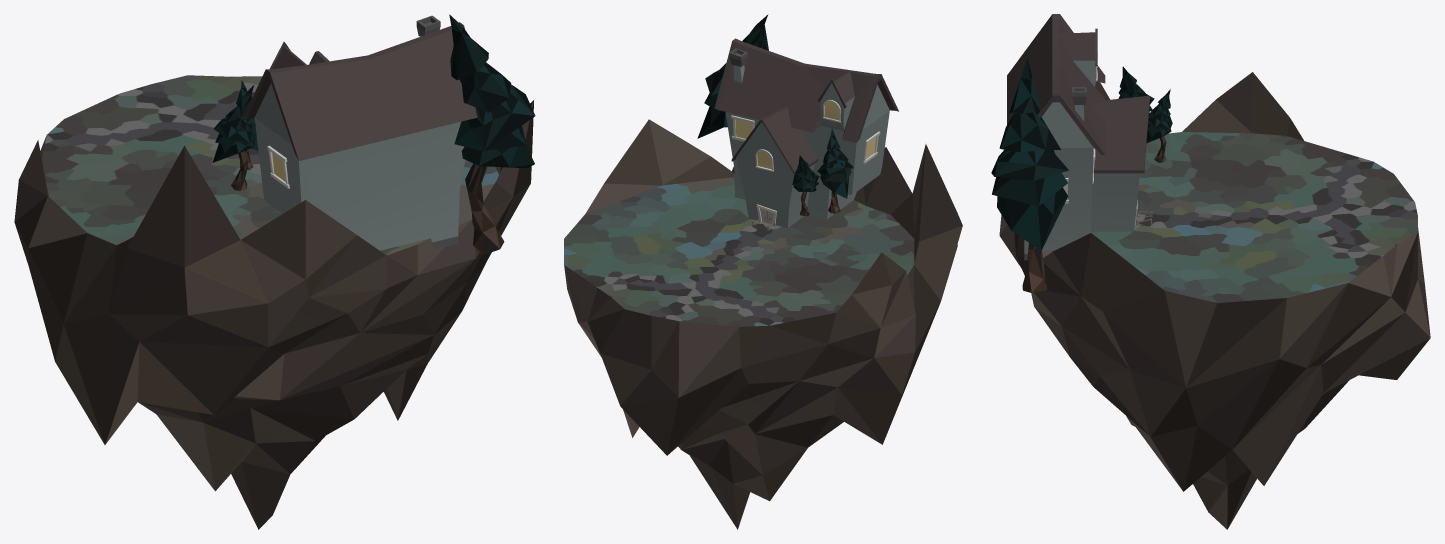
Rendered from Isla_Fantasma_Ejercicio_Secuencias.FBX.
3 views of the same model, side by side, from view 1: azimuth 30°, elevation 25°; view 2: azimuth 150°, elevation 25°; view 3: azimuth 270°, elevation 25° (orthographic). The views are drawn at different scales.
Parts seen in each view (by area): view 1: Isla_Fantasma_Isla_Grande, Isla_Fantasma_Mansion, Isla_Fantasma_Isla_Grande_suelo, Isla_Fantasma_Arbol_006, Isla_Fantasma_Arbol_008; view 2: Isla_Fantasma_Isla_Grande, Isla_Fantasma_Isla_Grande_suelo, Isla_Fantasma_Mansion, Isla_Fantasma_Arbol_006, Isla_Fantasma_Arbol_008, Isla_Fantasma_Arbol_009; view 3: Isla_Fantasma_Isla_Grande, Isla_Fantasma_Isla_Grande_suelo, Isla_Fantasma_Mansion, Isla_Fantasma_Arbol_006, Isla_Fantasma_Arbol_009, Isla_Fantasma_Arbol_008.
Boxes of the visible parts, x1,y1,x2,y2 form: Isla_Fantasma_Isla_Grande: (14, 76, 533, 529); Isla_Fantasma_Mansion: (242, 15, 477, 250); Isla_Fantasma_Isla_Grande_suelo: (41, 75, 498, 255); Isla_Fantasma_Arbol_006: (449, 14, 535, 254); Isla_Fantasma_Arbol_008: (212, 85, 256, 190); Isla_Fantasma_Isla_Grande: (564, 119, 962, 529); Isla_Fantasma_Isla_Grande_suelo: (564, 177, 914, 326); Isla_Fantasma_Mansion: (714, 38, 898, 230); Isla_Fantasma_Arbol_006: (697, 14, 768, 172); Isla_Fantasma_Arbol_008: (817, 128, 853, 213); Isla_Fantasma_Arbol_009: (792, 155, 819, 216); Isla_Fantasma_Isla_Grande: (999, 72, 1430, 529); Isla_Fantasma_Isla_Grande_suelo: (1041, 132, 1417, 303); Isla_Fantasma_Mansion: (1007, 14, 1152, 260); Isla_Fantasma_Arbol_006: (991, 59, 1068, 292); Isla_Fantasma_Arbol_009: (1146, 89, 1172, 162); Isla_Fantasma_Arbol_008: (1118, 66, 1154, 113).
Bounding box in the file's own units: 627 × 780 × 617.
Materials: 8 (2 with a texture image).
